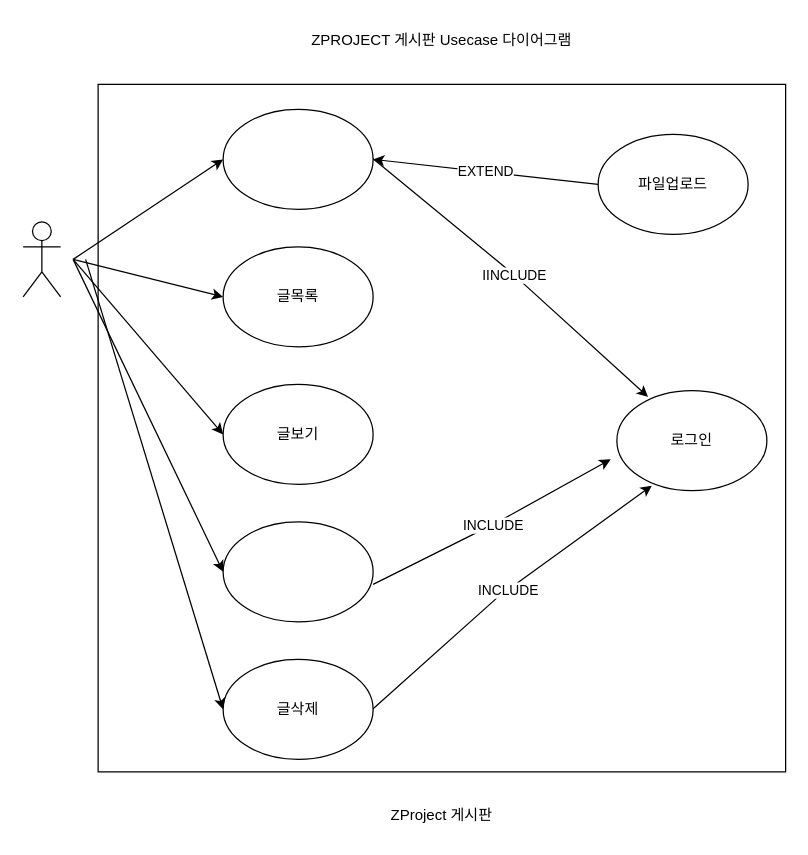
Some shapes in this 808 by 855 pixel diagram are drawn without their labels. The shapes that lost their labels are listed below. From the top down, each one's box as (x1, y1, x2, y2) in pixels, then its label:
(222, 108, 373, 209): 글쓰기
(22, 221, 61, 297): 사용자
(222, 521, 373, 622): 글변경
